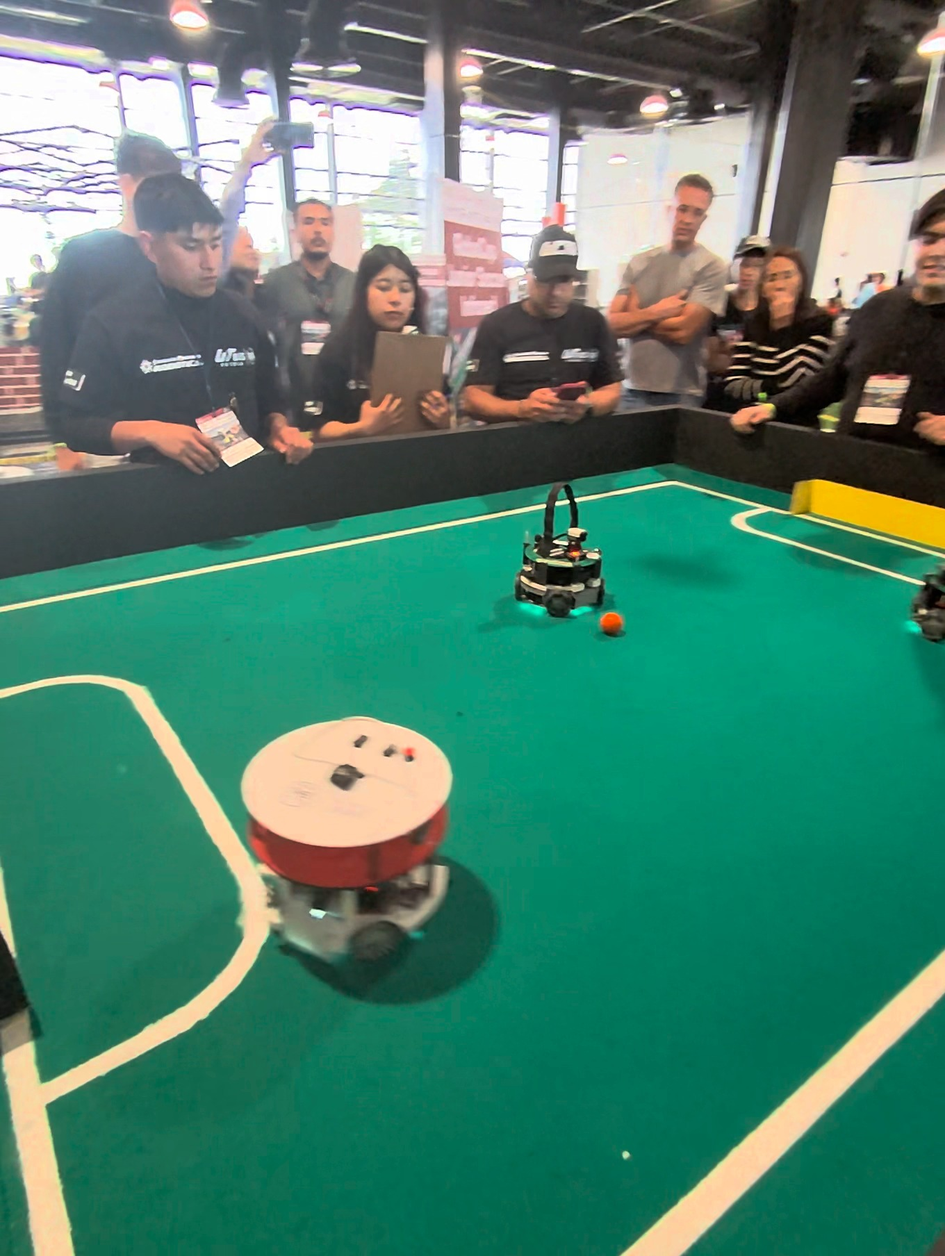Robot: (230, 685, 506, 1001), (512, 484, 603, 629), (908, 525, 945, 655)
pelota: (603, 611, 627, 636)
